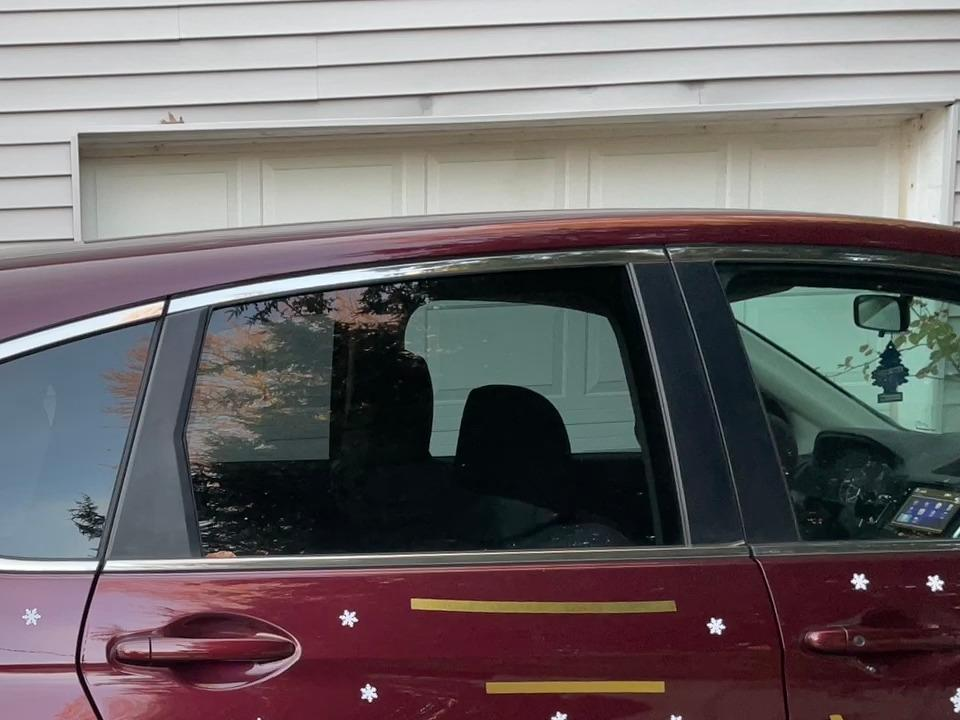dent: (336, 606, 361, 632), (703, 614, 727, 639), (357, 681, 380, 707), (924, 571, 947, 596), (21, 606, 45, 629), (849, 571, 872, 592), (548, 709, 572, 720), (664, 710, 688, 720), (248, 715, 272, 720)
scratch: (402, 589, 682, 620), (481, 673, 668, 699), (825, 710, 877, 720)
